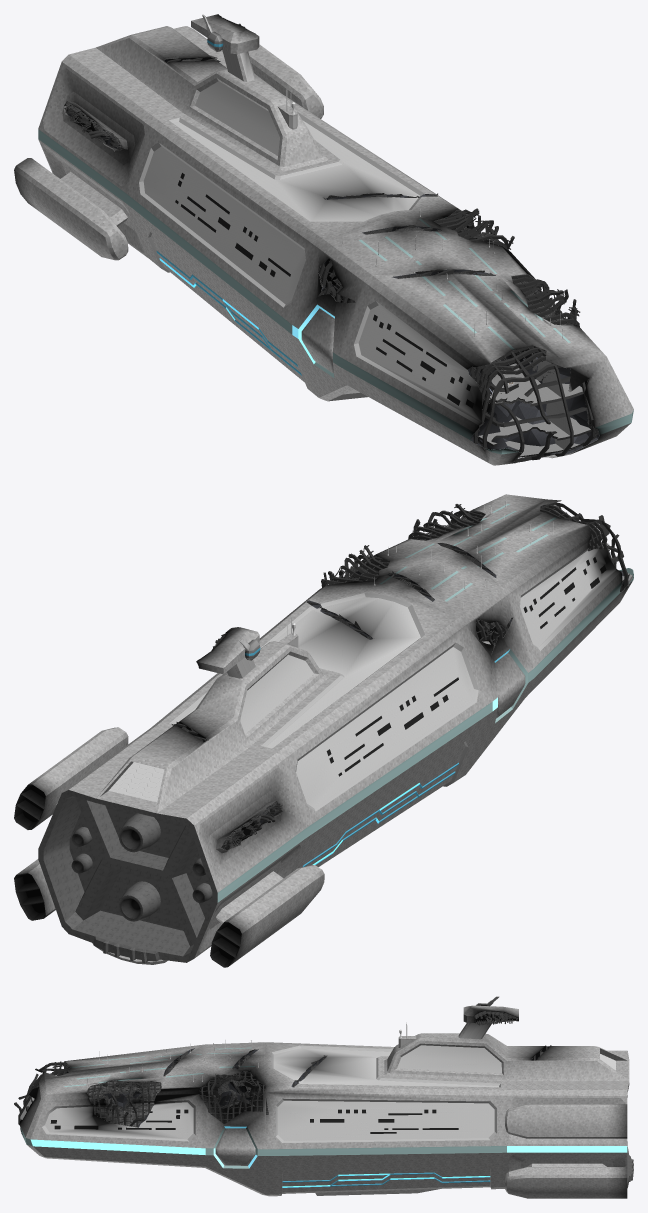
Rendered from abandoned_spaceship_broken.gltf.
3 renders of one model, top to bottom at view 1: azimuth 30°, elevation 25°; view 2: azimuth 150°, elevation 25°; view 3: azimuth 270°, elevation 25°, orthographic. The views are drawn at different scales.
Parts seen in each view (by area): view 1: Ship.Body, Wall.001, Floor.003, Floor.002, Beam.062; view 2: Ship.Body, Engine.Big.004, Engine.Big.003; view 3: Ship.Body, Ship.Body.Mesh.002, Ship.Body.Mesh.001.
Boxes of the visible parts, <box> form: Ship.Body: <box>14,14,633,465</box>; Wall.001: <box>534,346,573,456</box>; Floor.003: <box>484,379,583,406</box>; Floor.002: <box>478,416,591,446</box>; Beam.062: <box>482,363,561,462</box>; Ship.Body: <box>14,494,633,967</box>; Engine.Big.004: <box>118,881,160,921</box>; Engine.Big.003: <box>118,813,160,852</box>; Ship.Body: <box>19,996,633,1198</box>; Ship.Body.Mesh.002: <box>216,1080,254,1108</box>; Ship.Body.Mesh.001: <box>101,1089,150,1111</box>.
Size of what is drawn, in the model's own units: 89.52 by 102 by 309.
Materials: 36 (24 with a texture image).
